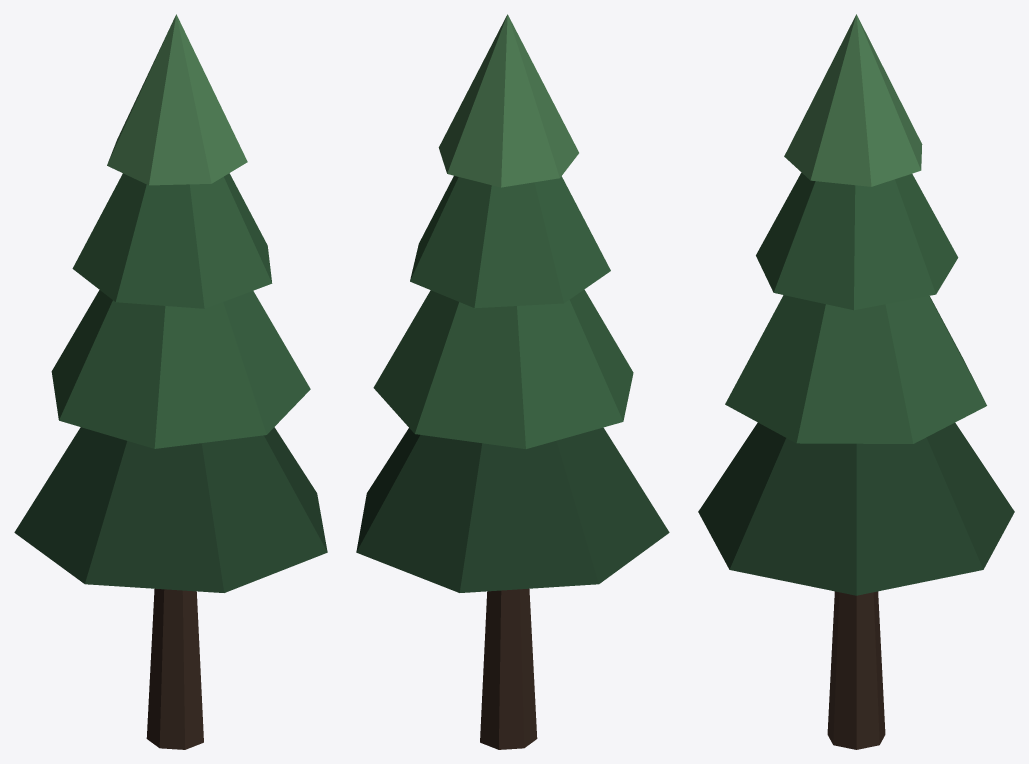
File: pine_tree.glb
3 views of the same model, side by side, from view 1: azimuth 30°, elevation 25°; view 2: azimuth 150°, elevation 25°; view 3: azimuth 270°, elevation 25° (orthographic).
Visible parts, largest first — view 1: pine_tree; view 2: pine_tree; view 3: pine_tree.
Boxes of the visible parts, bbox=[...] form: pine_tree: bbox=[14, 14, 327, 749]; pine_tree: bbox=[356, 14, 669, 749]; pine_tree: bbox=[698, 14, 1014, 749].
Bounding box in the file's own units: 3.33 × 8.6 × 3.41.
Materials: 1 (1 with a texture image).
